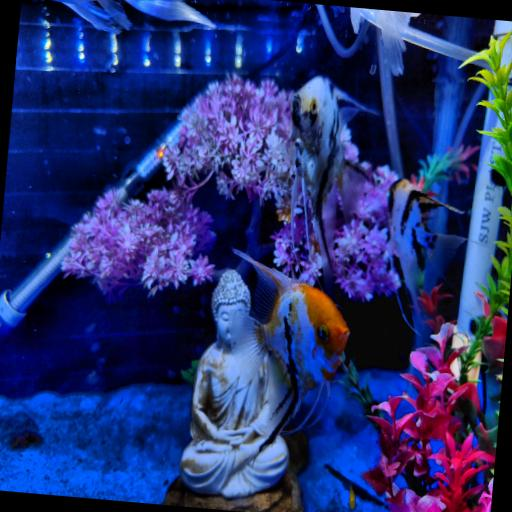Fish: (229, 251, 349, 444), (292, 77, 377, 296), (388, 179, 465, 332), (372, 9, 420, 75), (124, 0, 215, 27)
